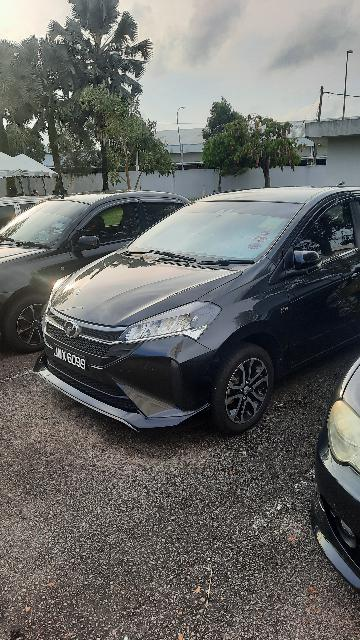License_Plate: (44, 342, 98, 383)
car: (42, 187, 360, 439), (2, 187, 203, 352)
